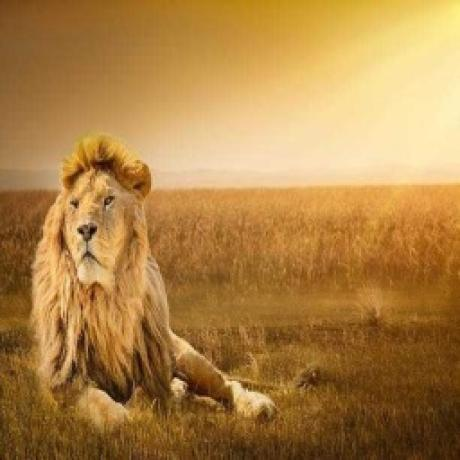Lion: (31, 130, 279, 426)
